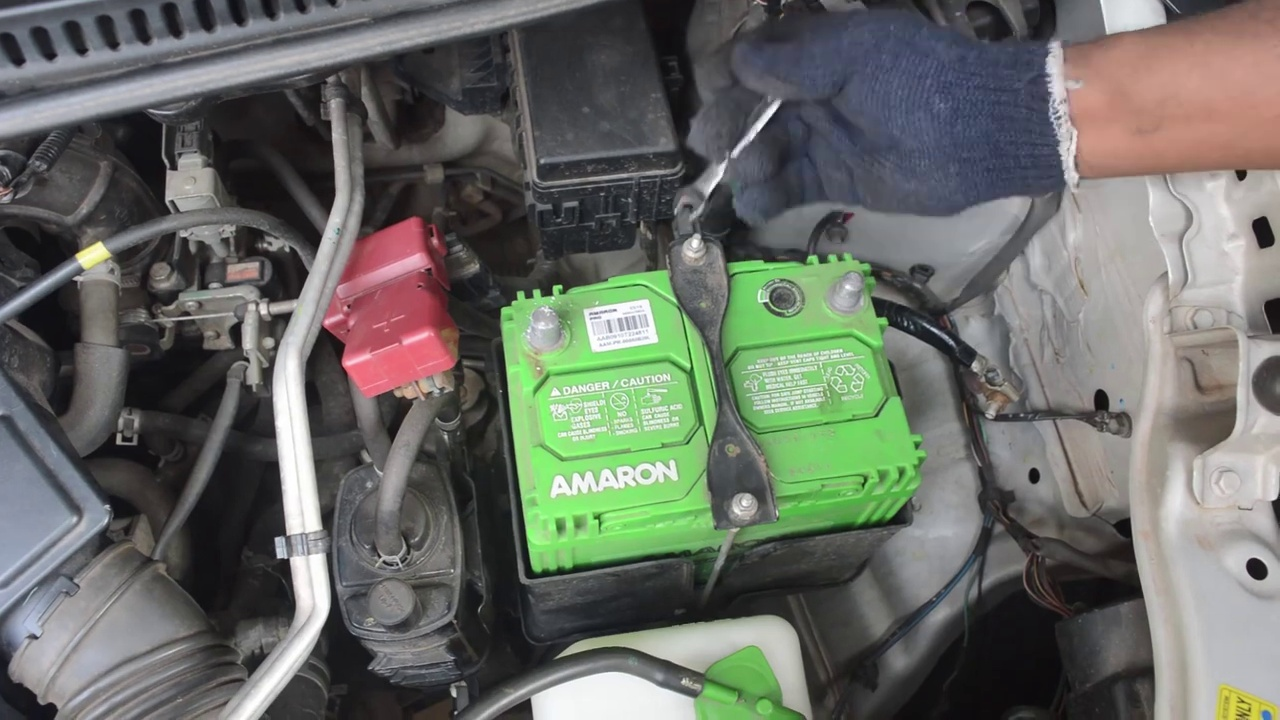battery: (501, 242, 919, 521)
neg_disconnected: (806, 258, 889, 332)
pos_disconnected: (336, 233, 587, 380)
